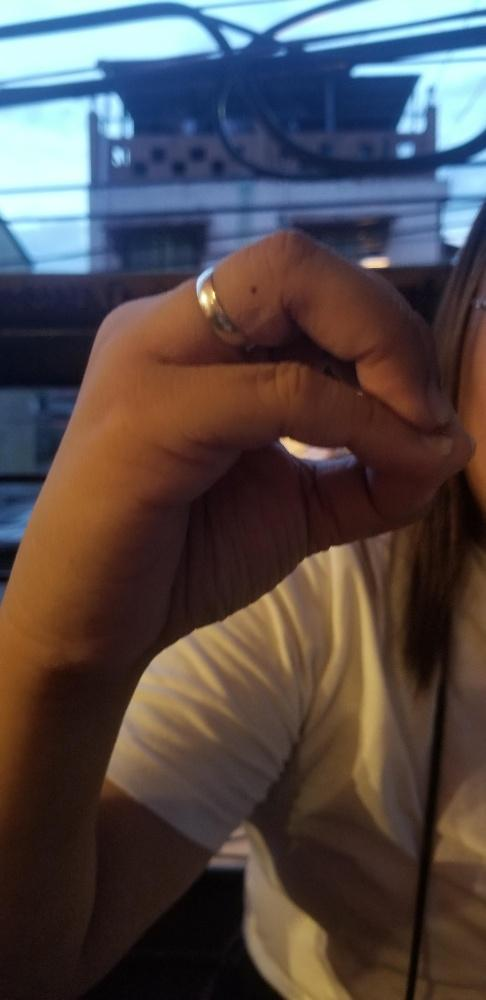o: (24, 226, 467, 647)
